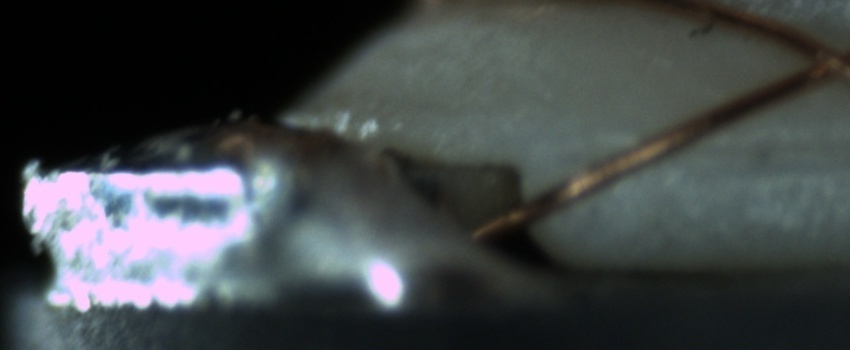CL: (779, 23, 849, 93)
DL: (627, 115, 850, 190)
